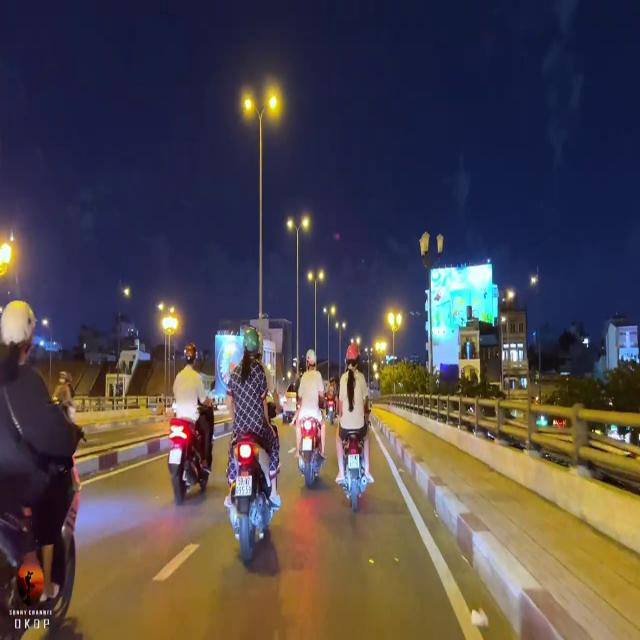bien_trang: (236, 473, 252, 497)
